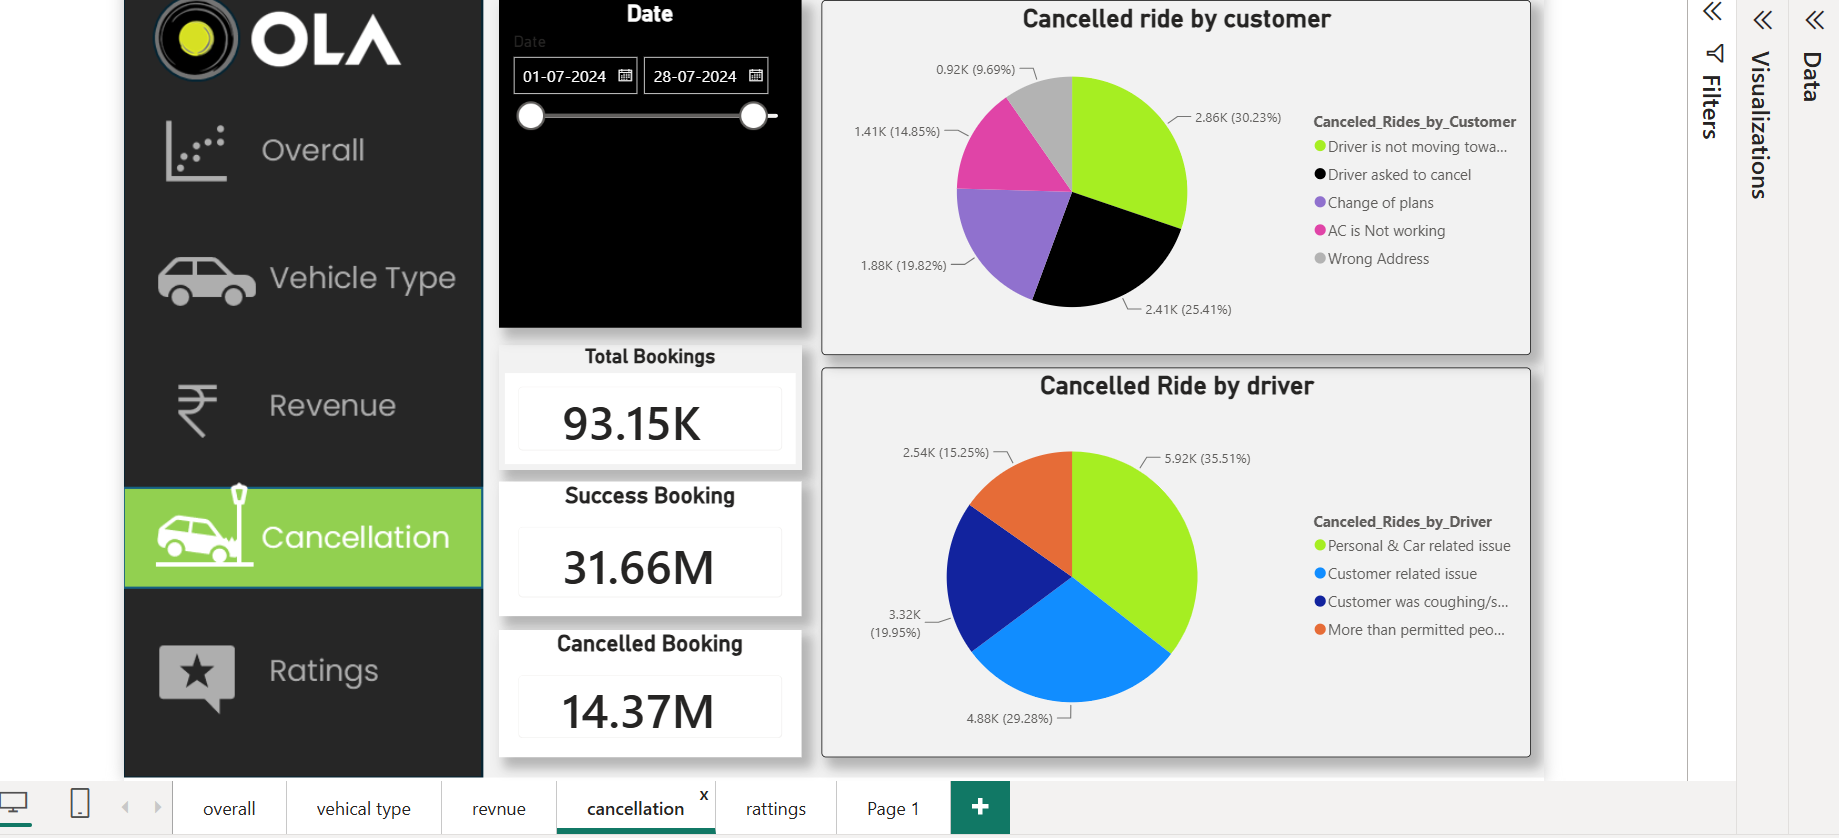

The dashboard page shown, as its layout file describes it:
{"tool":"powerbi","page":{"name":"cancellation","canvas":[1280,720],"ordinal":3},"visuals":[{"type":"actionButton","box":[0,108.1,320.4,93.3],"z":0},{"type":"actionButton","box":[0,235.2,320.4,93.3],"z":1000},{"type":"actionButton","box":[0,336.6,320.4,93.3],"z":2000},{"type":"actionButton","box":[0,451.5,320.4,93.3],"z":3000},{"type":"actionButton","box":[0,583.9,320.4,93.3],"z":4000},{"type":"pieChart","title":"Cancelled ride by customer","fields":{"Category":["July.Canceled_Rides_by_Customer"],"Y":["CountNonNull(July.Canceled_Rides_by_Customer)"]},"box":[628.4,15.8,639.6,319.8],"z":5000},{"type":"pieChart","title":"Cancelled Ride by driver","fields":{"Category":["July.Canceled_Rides_by_Driver"],"Y":["CountNonNull(July.Canceled_Rides_by_Driver)"]},"box":[628.4,346.8,639.6,351.3],"z":6000},{"type":"slicer","title":"Date","fields":{"Values":["July.Date"]},"box":[337.8,15.8,272.5,295],"z":7000},{"type":"cardVisual","title":"Total Bookings","fields":{"Data":["CountNonNull(July.Booking_ID)"]},"box":[337.8,326.6,272.5,112.6],"z":8000},{"type":"cardVisual","title":"Success Booking ","fields":{"Data":["Sum(July.Booking_Value)"]},"box":[337.8,450.4,272.5,121.6],"z":9000},{"type":"cardVisual","title":"Cancelled Booking ","fields":{"Data":["Sum(July.Booking_Value)"]},"box":[337.8,583.3,272.5,114.9],"z":10000}]}

Visuals, with their boxes on the page's 1280x720 design canvas (x1, y1, x2, y2). These are canvas units, not pixel positions in the 1839x838 screenshot, which may show the page scaled, cropped or inside an application window:
actionButton: bbox=[0, 108, 320, 201]
actionButton: bbox=[0, 235, 320, 328]
actionButton: bbox=[0, 337, 320, 430]
actionButton: bbox=[0, 452, 320, 545]
actionButton: bbox=[0, 584, 320, 677]
"Cancelled ride by customer" pieChart: bbox=[628, 16, 1268, 336]
"Cancelled Ride by driver" pieChart: bbox=[628, 347, 1268, 698]
"Date" slicer: bbox=[338, 16, 610, 311]
"Total Bookings" cardVisual: bbox=[338, 327, 610, 439]
"Success Booking " cardVisual: bbox=[338, 450, 610, 572]
"Cancelled Booking " cardVisual: bbox=[338, 583, 610, 698]
